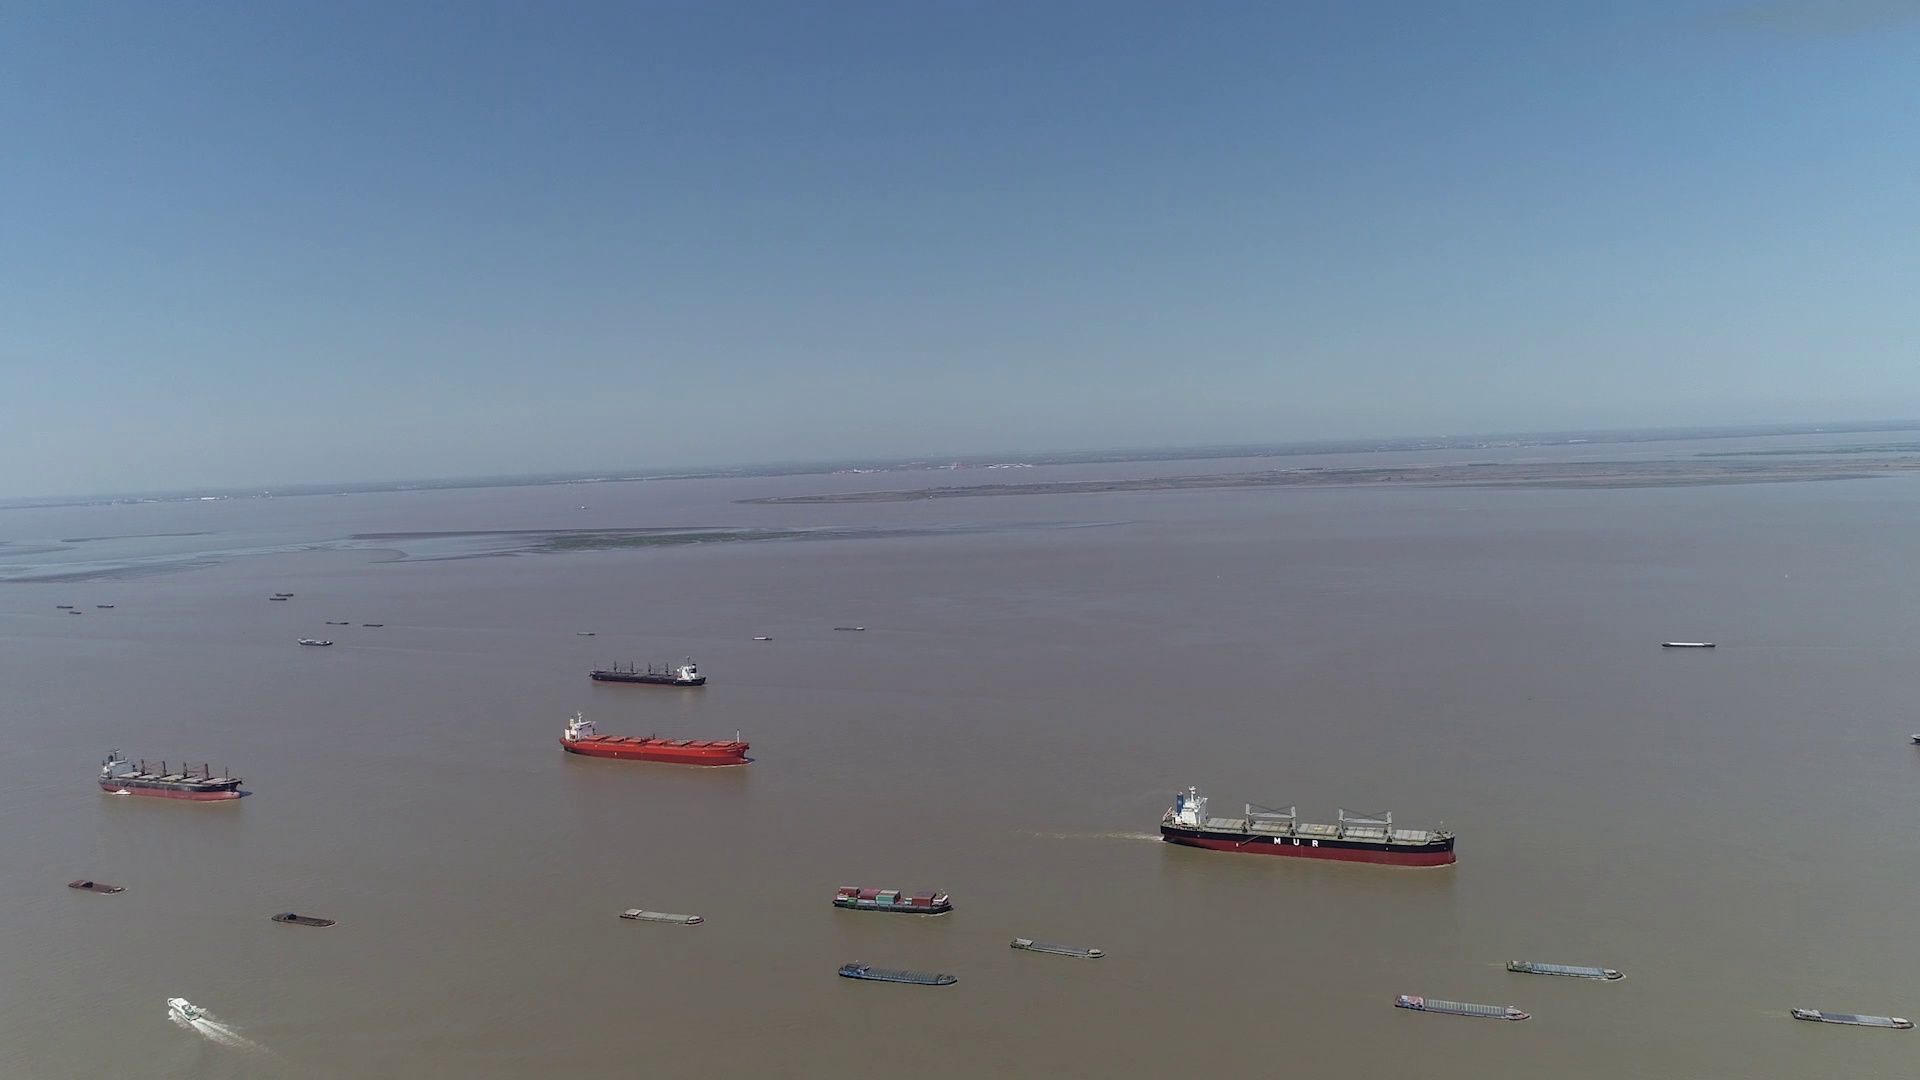ship: (1163, 787, 1457, 866), (559, 713, 752, 765), (99, 748, 243, 802), (1394, 993, 1528, 1021), (833, 884, 952, 914), (591, 655, 705, 686), (840, 951, 959, 977), (1789, 1006, 1916, 1030), (839, 961, 956, 986), (1507, 957, 1627, 980), (1009, 936, 1106, 959), (618, 907, 704, 924), (166, 1000, 211, 1026), (273, 913, 339, 928), (69, 877, 124, 894), (298, 636, 338, 647), (1663, 640, 1716, 647)
